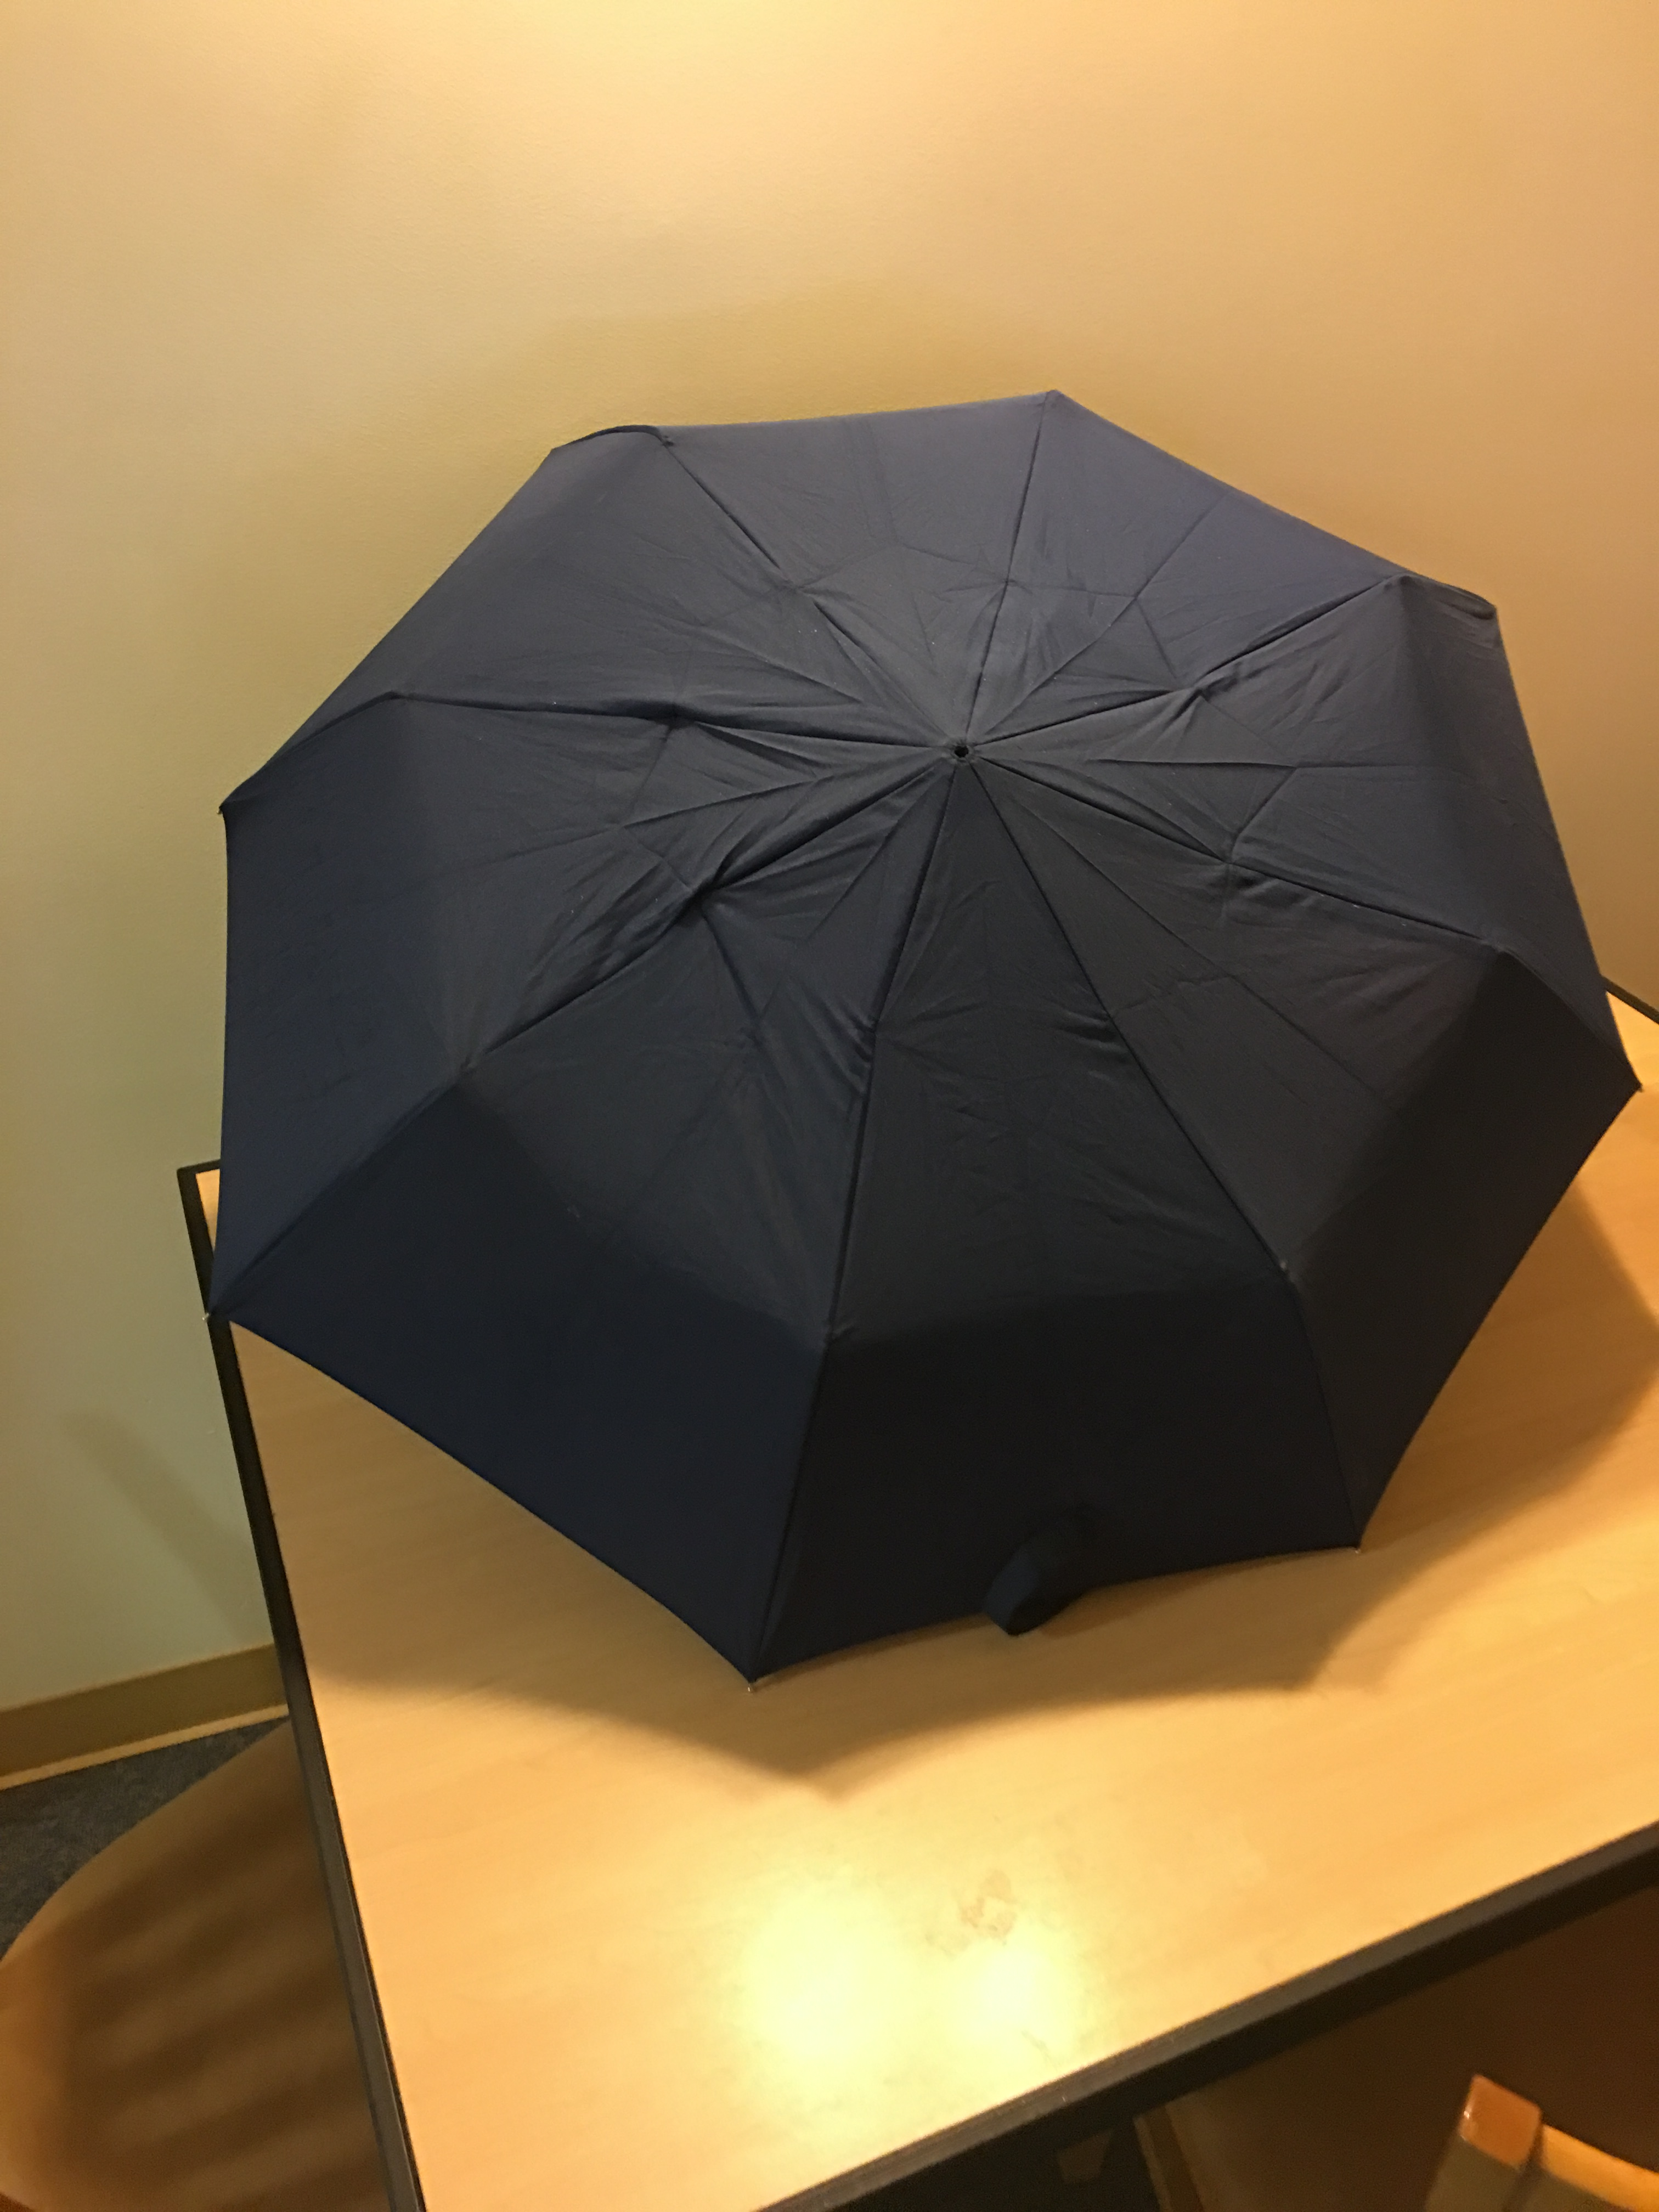Umbrella: (202, 371, 1631, 1693)
